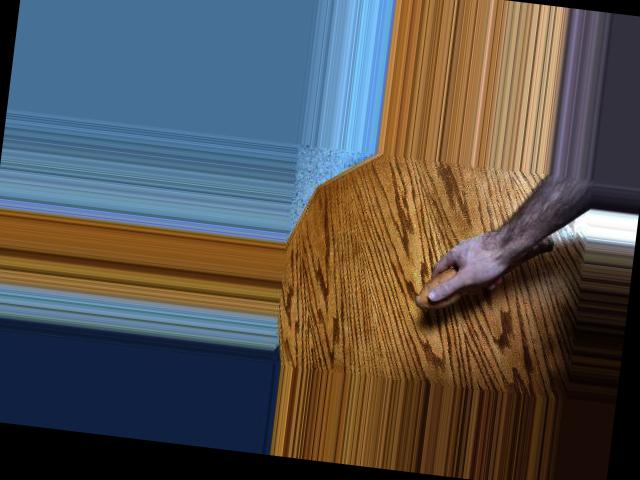sweet_potato: (413, 219, 558, 324)
